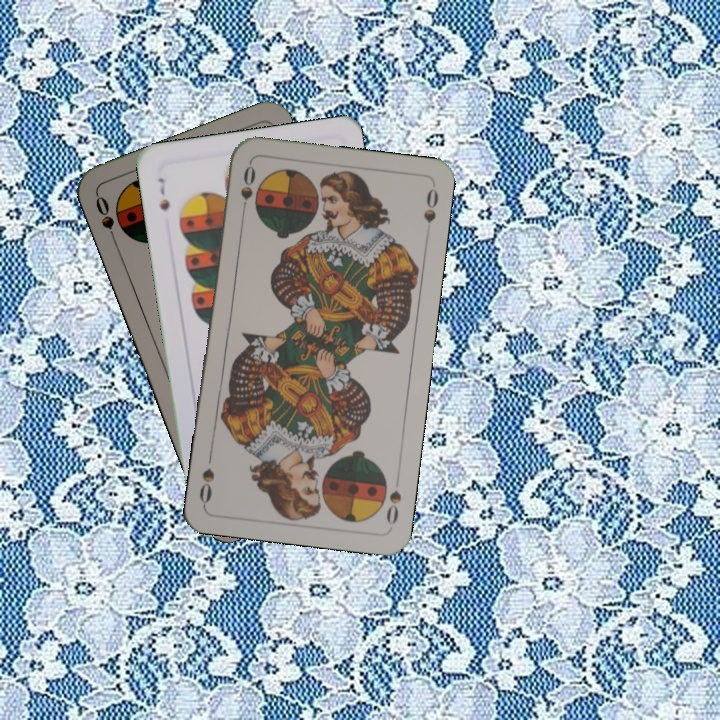S7: (153, 173, 172, 214)
SO: (91, 191, 120, 249), (236, 160, 259, 219), (382, 471, 404, 528)
